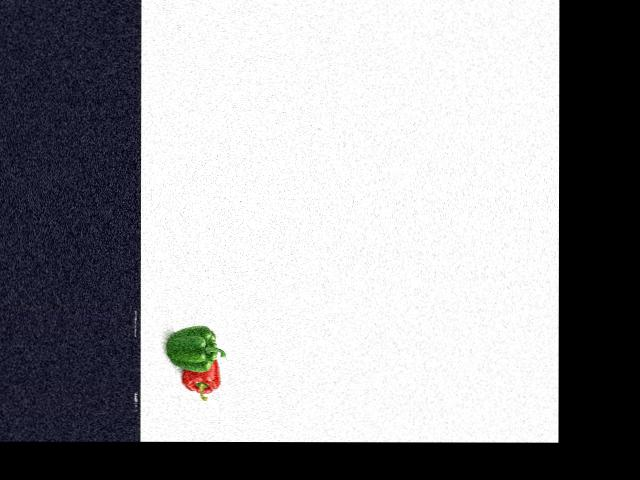bell_pepper: (183, 357, 225, 400)
